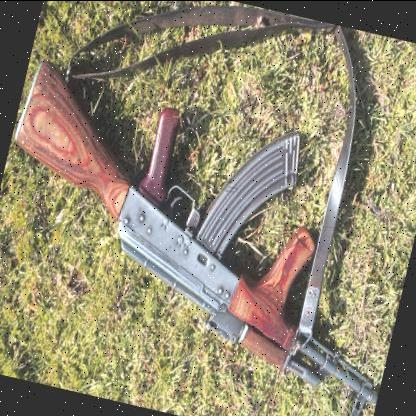rifle: (0, 50, 416, 416)
